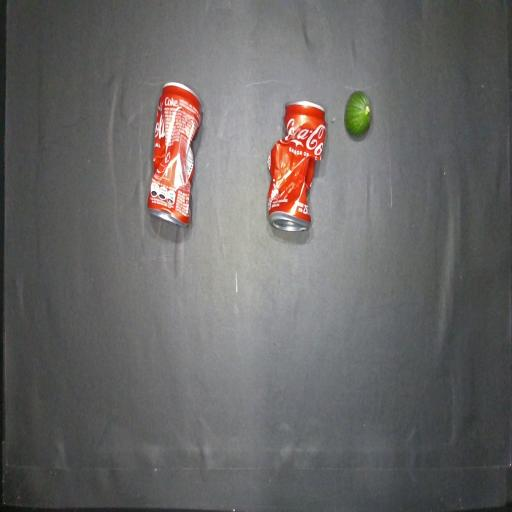higo: (345, 91, 371, 136)
lata_defectuoso: (148, 82, 202, 225), (267, 101, 326, 231)
